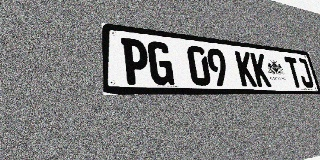0: (186, 45, 211, 86)
9: (206, 47, 230, 86)
G: (147, 41, 175, 85)
J: (295, 58, 314, 88)
K: (235, 51, 257, 87), (250, 53, 272, 87)
P: (121, 38, 150, 85)
T: (284, 56, 304, 88)
